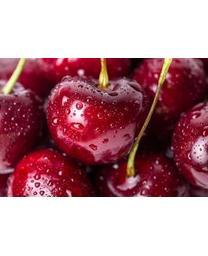cherry: (46, 76, 154, 164)
